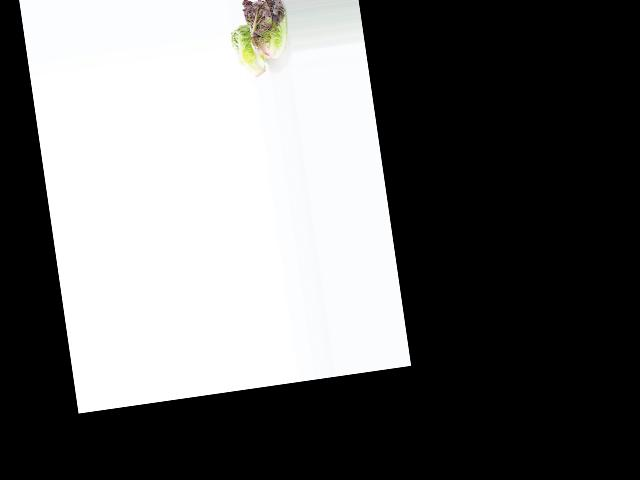lettuce: (228, 21, 269, 82)
